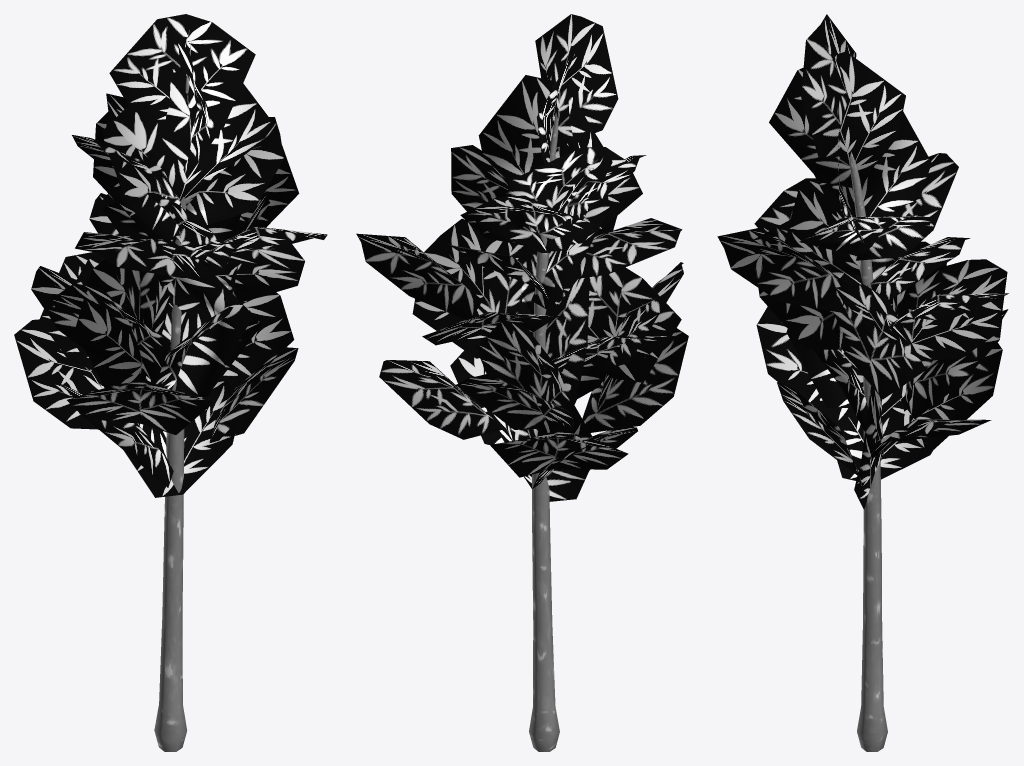
Rendered from P_BambooSapling5.obj.
3 renders of one model, left to right at view 1: azimuth 30°, elevation 25°; view 2: azimuth 150°, elevation 25°; view 3: azimuth 270°, elevation 25°, orthographic. The views are drawn at different scales.
Size of the model in its own units: 4.29 by 11.13 by 4.11.
